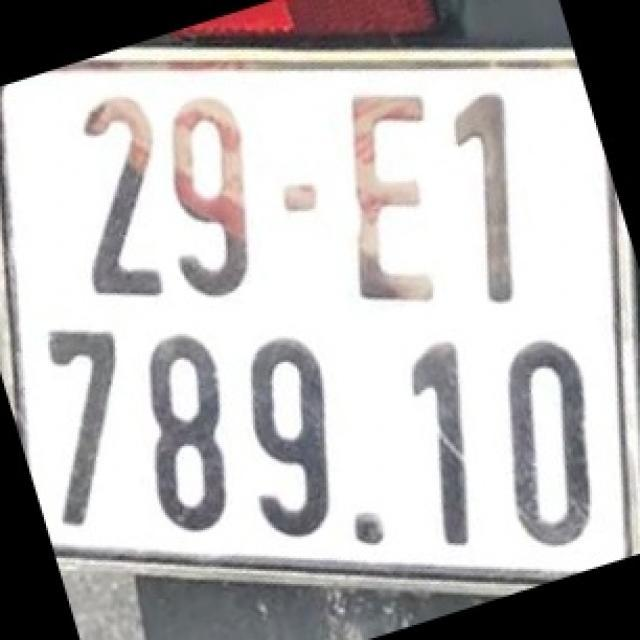0: (502, 333, 598, 548)
1: (402, 334, 484, 552), (450, 86, 530, 308)
2: (78, 92, 166, 302)
7: (42, 321, 122, 528)
8: (142, 326, 234, 534)
9: (242, 330, 338, 538), (168, 93, 258, 300)
E: (348, 82, 443, 306)
